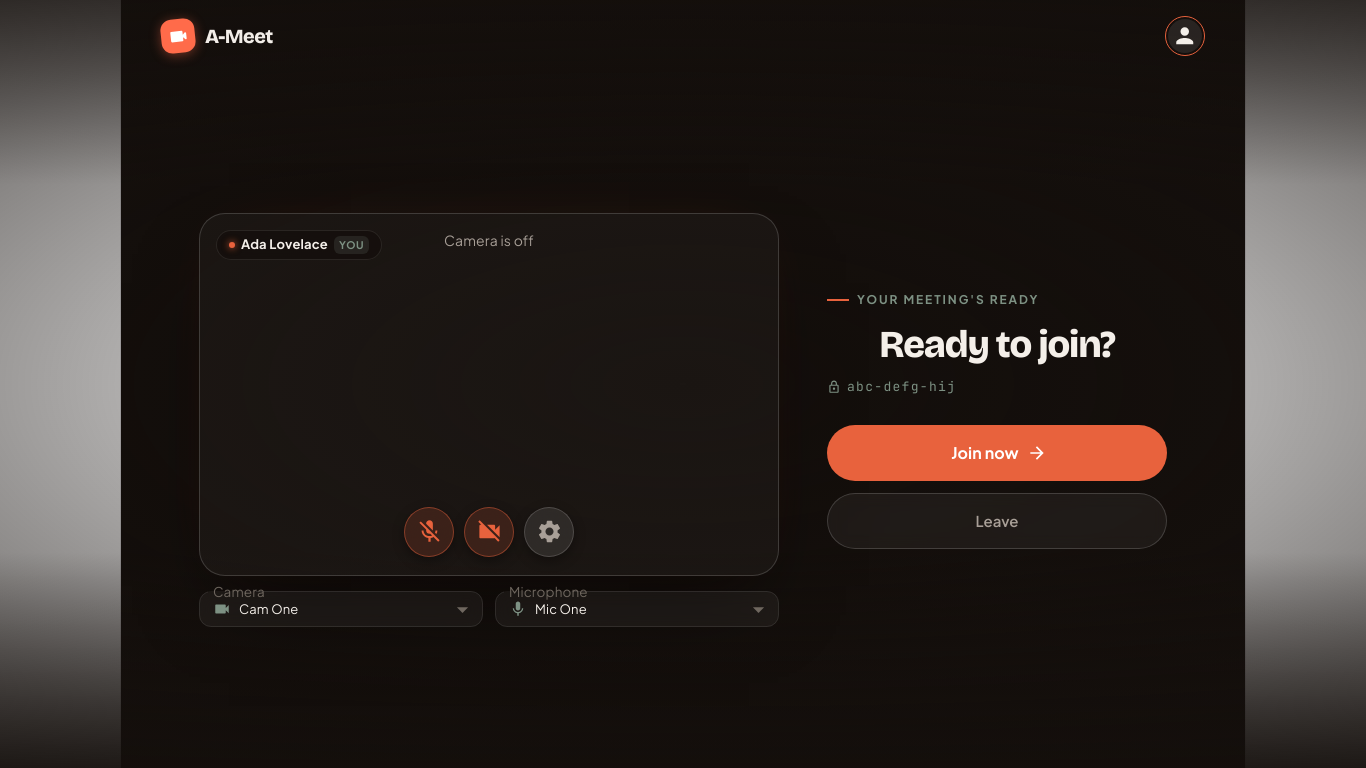
Test: LobbyPage › populates the camera + microphone pickers from enumerateDevices
Expected: the text "Cam One" is shown, x1=239 y1=600 x2=298 y2=619
Expected: the text "Mic One" is shown, x1=535 y1=600 x2=587 y2=619
Both cameras are offered in the dropdown (open it via its current value).
Press the mouse on the dropdown "Cam One" at (256, 609), box x1=213 y1=600 x2=298 y2=618
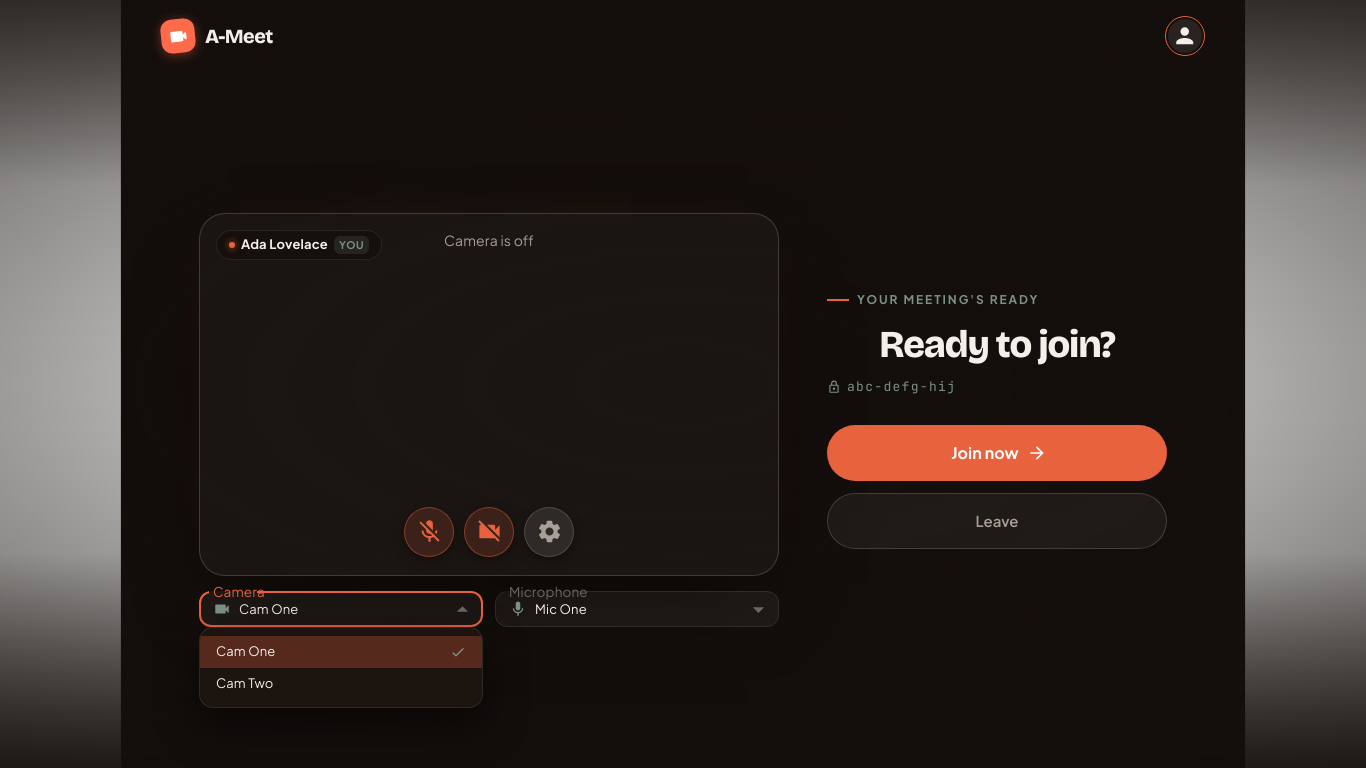
Now the option "Cam One" is shown, box x1=200 y1=636 x2=482 y2=668
Now the option "Cam Two" is shown, box x1=216 y1=674 x2=274 y2=690
